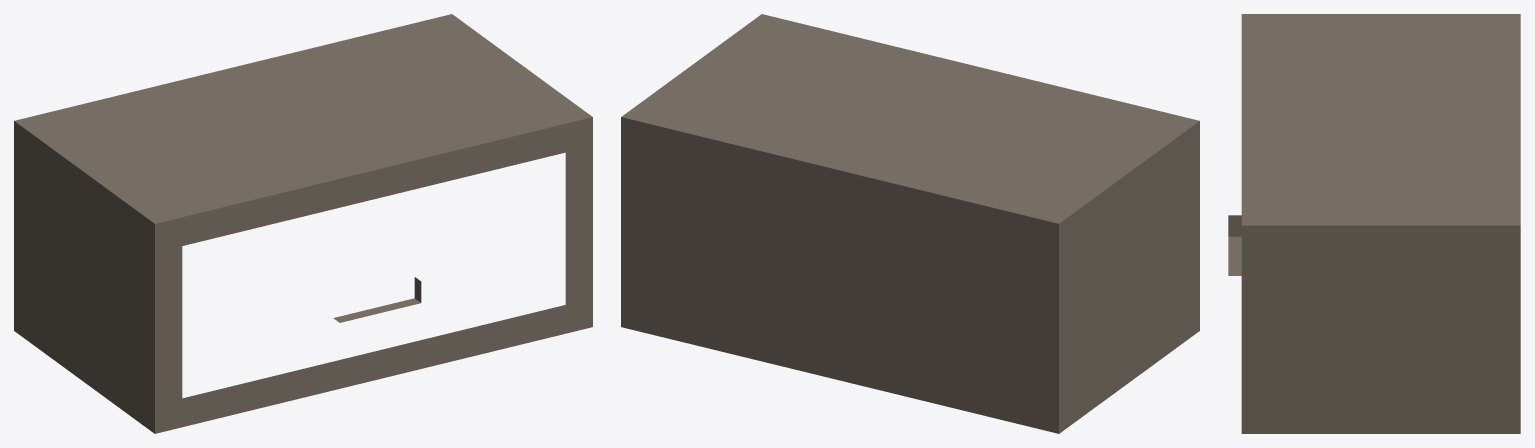
The model's file is wood_wall_box_shallow.glb.
3 views of the same model, side by side, from view 1: azimuth 30°, elevation 25°; view 2: azimuth 150°, elevation 25°; view 3: azimuth 270°, elevation 25° (orthographic).
Visible parts, largest first — view 1: wood_wall_box_shallow; view 2: wood_wall_box_shallow; view 3: wood_wall_box_shallow.
Part boxes in pixels (x1,y1,x2,y2): wood_wall_box_shallow: (14, 14, 592, 433); wood_wall_box_shallow: (621, 14, 1199, 433); wood_wall_box_shallow: (1228, 14, 1520, 433).
Size of the model in its own units: 0.48 by 0.22 by 0.28.
